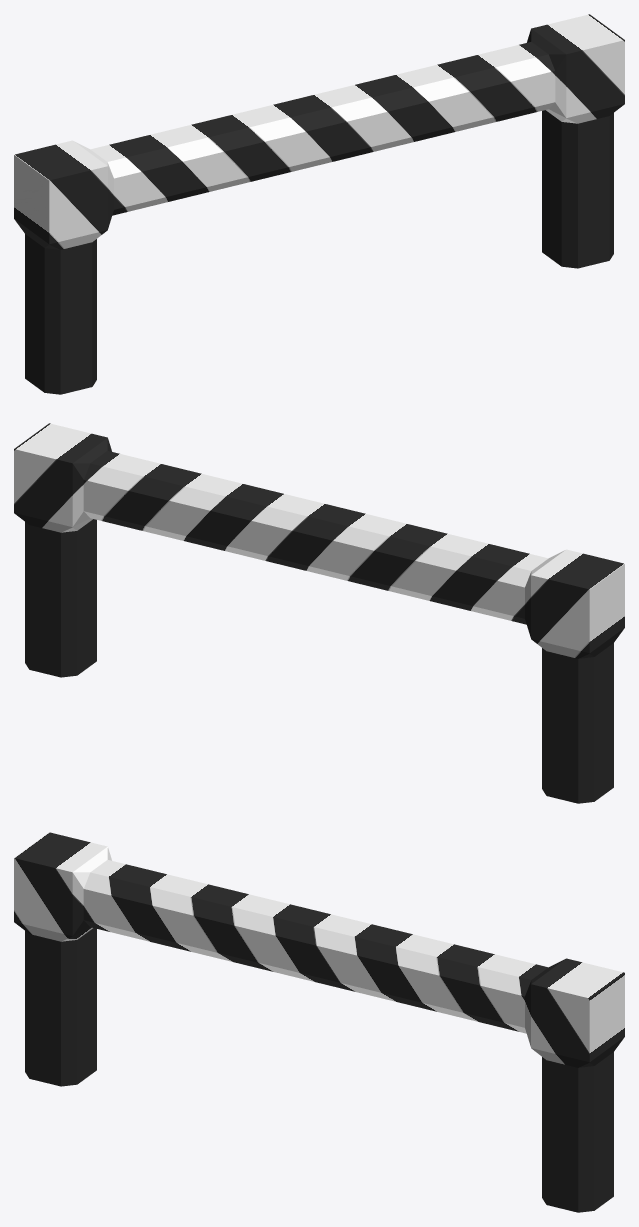
The model's file is obstecel.fbx.
The picture shows the model from 3 angles, top to bottom: view 1: azimuth 30°, elevation 25°; view 2: azimuth 150°, elevation 25°; view 3: azimuth 330°, elevation 25°; orthographic projection.
Parts seen in each view (by area): view 1: obstecel; view 2: obstecel; view 3: obstecel.
Boxes of the visible parts, <box> form: obstecel: <box>14,14,624,394</box>; obstecel: <box>14,423,624,803</box>; obstecel: <box>14,832,624,1212</box>.
Size of the model in its own units: 2197 by 798 by 233.
